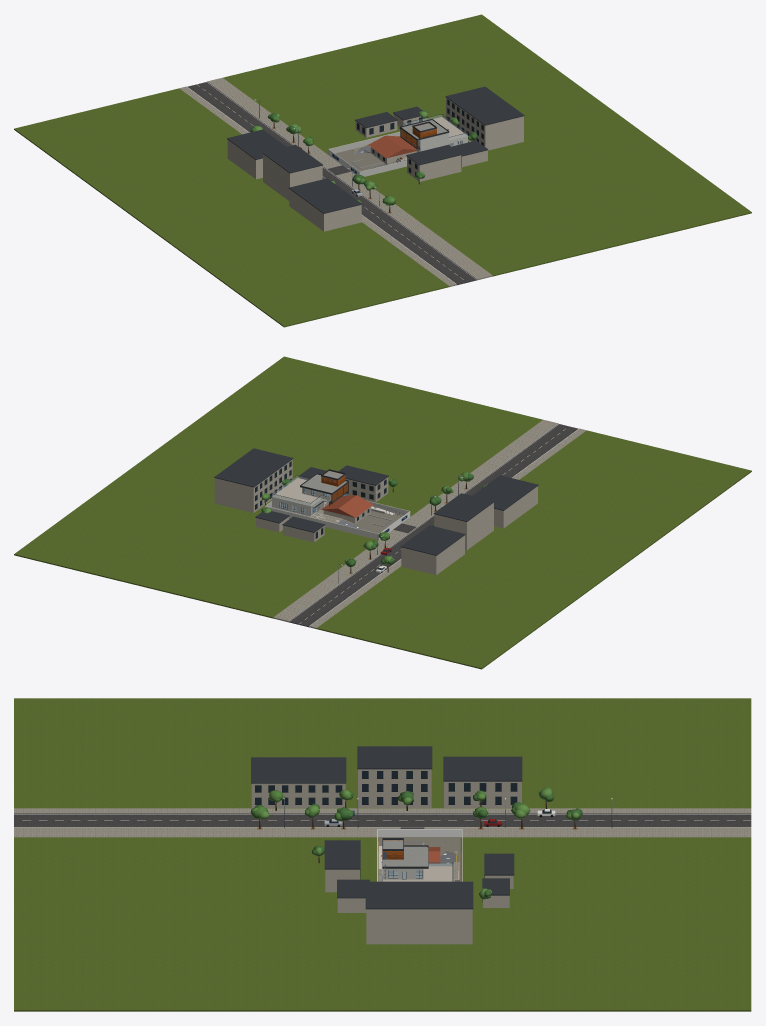
File: obra-dr-clovis.glb
3 renders of one model, top to bottom at view 1: azimuth 30°, elevation 25°; view 2: azimuth 150°, elevation 25°; view 3: azimuth 270°, elevation 25°, orthographic. The views are drawn at different scales.
Visible parts, largest first — view 1: site__zero, entorno__zero, site__casa_antiga, site__rachao; view 2: site__zero, entorno__zero, site__casa_antiga, pav2__pavimento__imp, site__rachao; view 3: site__zero, entorno__zero, site__rachao, pav2Teto__cobertura_2o, site__tapume, pav2__pavimento__imp.
Boxes of the visible parts, <box> form: site__zero: <box>14,14,751,327</box>; entorno__zero: <box>227,86,524,231</box>; site__casa_antiga: <box>368,135,419,164</box>; site__rachao: <box>335,147,386,171</box>; site__zero: <box>14,356,751,669</box>; entorno__zero: <box>214,448,538,575</box>; site__casa_antiga: <box>321,495,373,523</box>; pav2__pavimento__imp: <box>272,478,321,505</box>; site__rachao: <box>356,510,403,533</box>; site__zero: <box>14,698,751,1011</box>; entorno__zero: <box>250,746,582,944</box>; site__rachao: <box>379,837,460,881</box>; pav2Teto__cobertura_2o: <box>382,846,428,868</box>; site__tapume: <box>378,829,461,837</box>; pav2__pavimento__imp: <box>383,866,452,881</box>.
Size of the model in its own units: 180 by 20.48 by 180.
43 materials, 13 textured.
